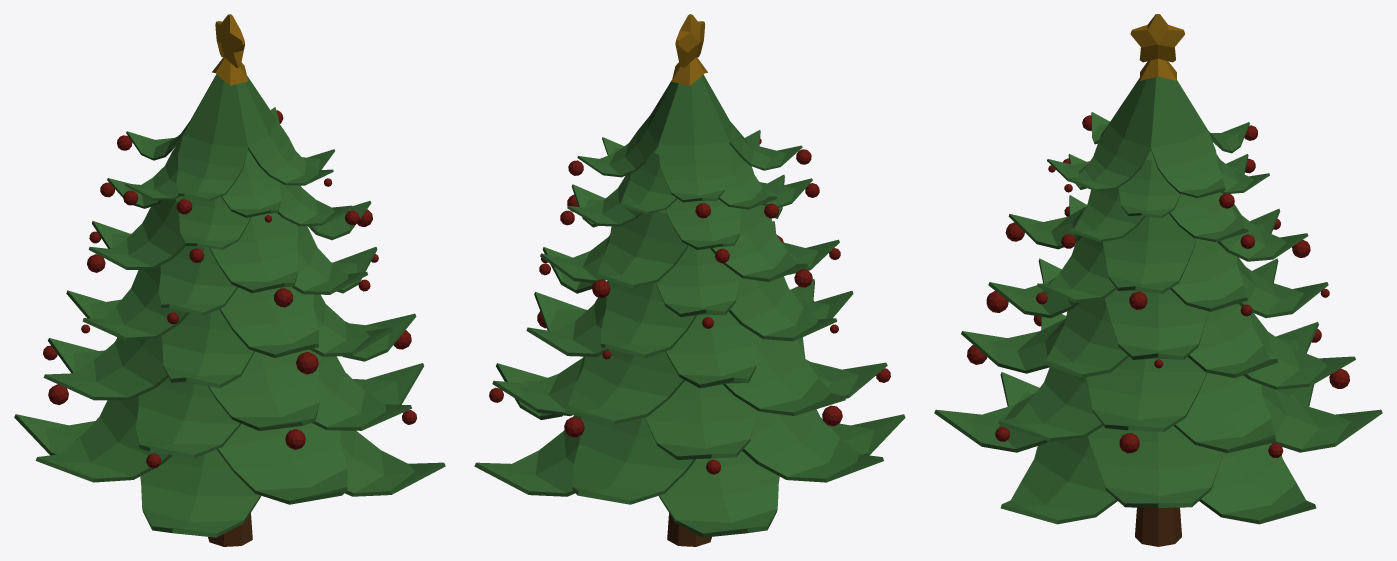
Rendered from ChristmasTree.obj.
3 renders of one model, left to right at view 1: azimuth 30°, elevation 25°; view 2: azimuth 150°, elevation 25°; view 3: azimuth 270°, elevation 25°, orthographic.
Parts seen in each view (by area): view 1: Cylinder_Cylinder.016; view 2: Cylinder_Cylinder.016; view 3: Cylinder_Cylinder.016.
Boxes of the visible parts, <box> form: Cylinder_Cylinder.016: <box>14,14,445,546</box>; Cylinder_Cylinder.016: <box>474,14,905,546</box>; Cylinder_Cylinder.016: <box>934,14,1382,546</box>.
Size of the model in its own units: 4.51 by 5.8 by 4.51.
